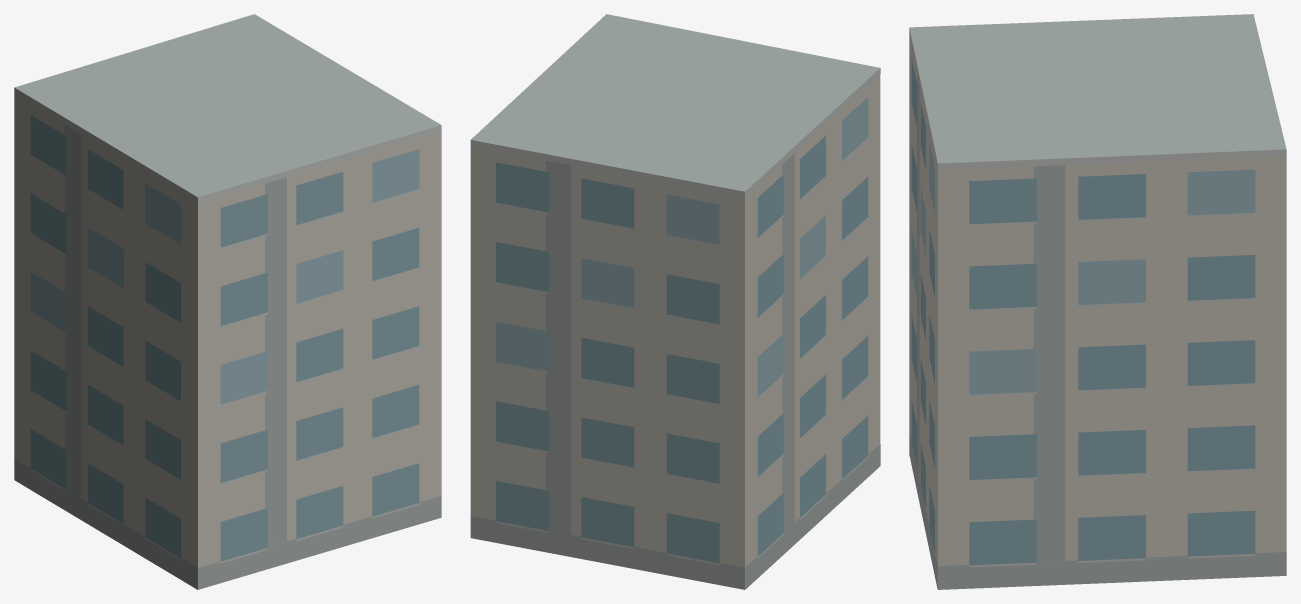
The model's file is survey-upis-32563894.glb.
3 renders of one model, left to right at view 1: azimuth 30°, elevation 25°; view 2: azimuth 150°, elevation 25°; view 3: azimuth 270°, elevation 25°, orthographic. The views are drawn at different scales.
Parts seen in each view (by area): view 1: survey-upis-32563894.tmp; view 2: survey-upis-32563894.tmp; view 3: survey-upis-32563894.tmp.
Boxes of the visible parts, <box> form: survey-upis-32563894.tmp: <box>14,14,441,589</box>; survey-upis-32563894.tmp: <box>470,14,880,589</box>; survey-upis-32563894.tmp: <box>909,14,1286,589</box>.
Size of the model in its own units: 11.48 by 15.25 by 12.24.
